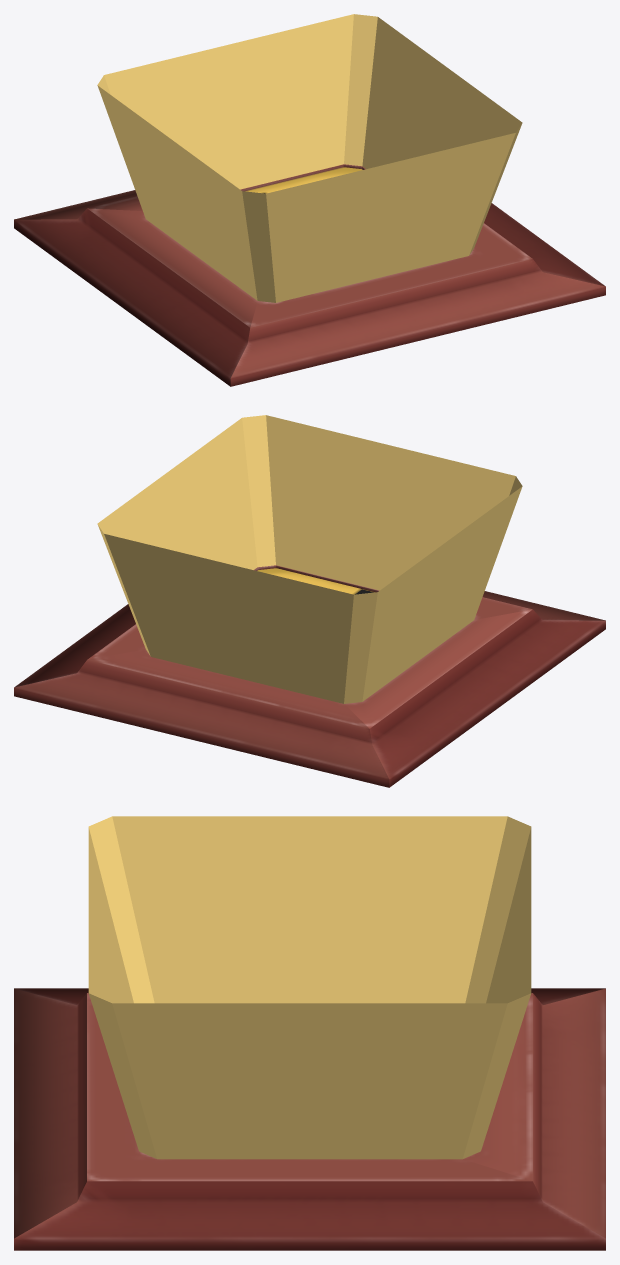
The model's file is a_SWApan_d.glb.
The picture shows the model from 3 angles, top to bottom: view 1: azimuth 30°, elevation 25°; view 2: azimuth 150°, elevation 25°; view 3: azimuth 270°, elevation 25°; orthographic projection. The views are drawn at different scales.
Parts seen in each view (by area): view 1: a_SWApan_d; view 2: a_SWApan_d; view 3: a_SWApan_d.
Part boxes in pixels (bbox=[...]): a_SWApan_d: bbox=[14, 14, 605, 386]; a_SWApan_d: bbox=[14, 415, 605, 787]; a_SWApan_d: bbox=[14, 816, 605, 1250].
Bounding box in the file's own units: 1 × 0.402 × 1.
Materials: 3 (3 with a texture image).
